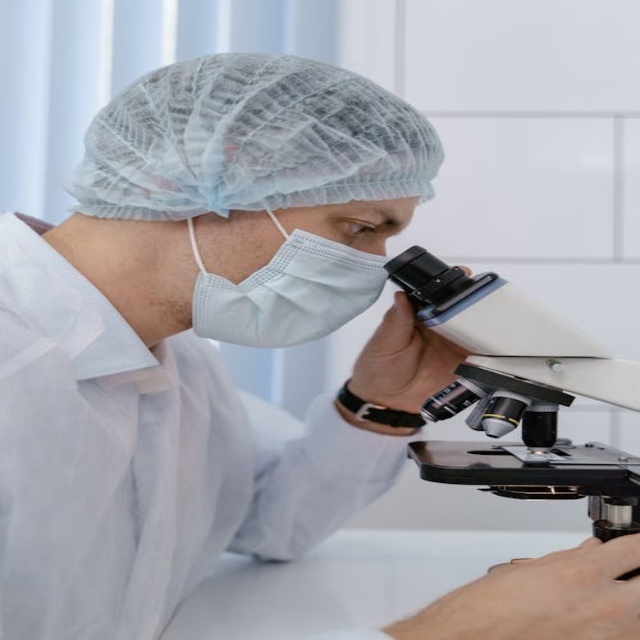Mascara: (187, 211, 394, 350)
Sin_gafas: (306, 206, 420, 247)
Sin_guantes: (399, 529, 638, 640), (341, 283, 483, 422)
